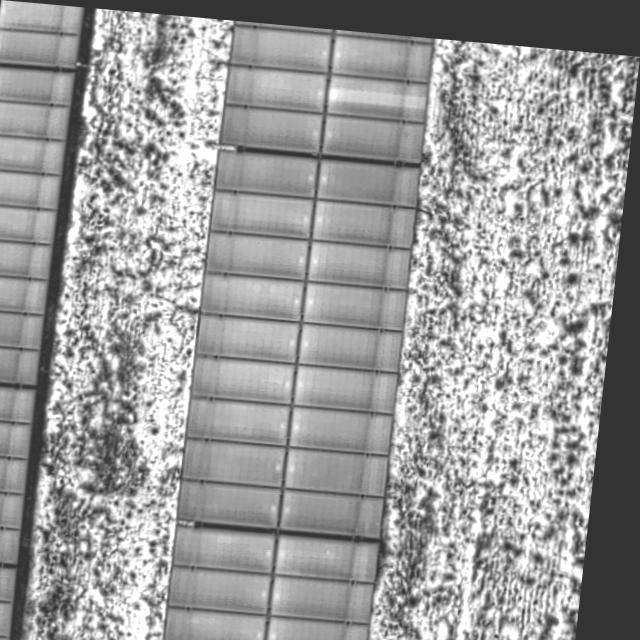Hotspot: (166, 25, 431, 640), (0, 6, 86, 640)
